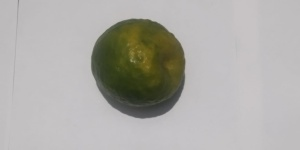BAD: (90, 15, 185, 106)
